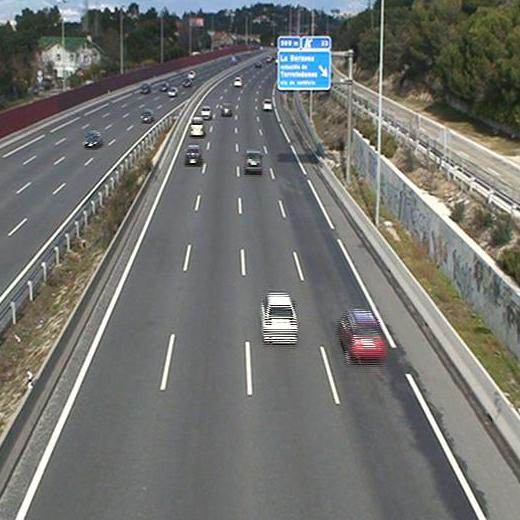car: (254, 287, 305, 351), (334, 307, 389, 359), (242, 149, 266, 173), (187, 116, 208, 140), (184, 145, 205, 167), (260, 96, 276, 113), (200, 103, 215, 119), (221, 102, 234, 118)
